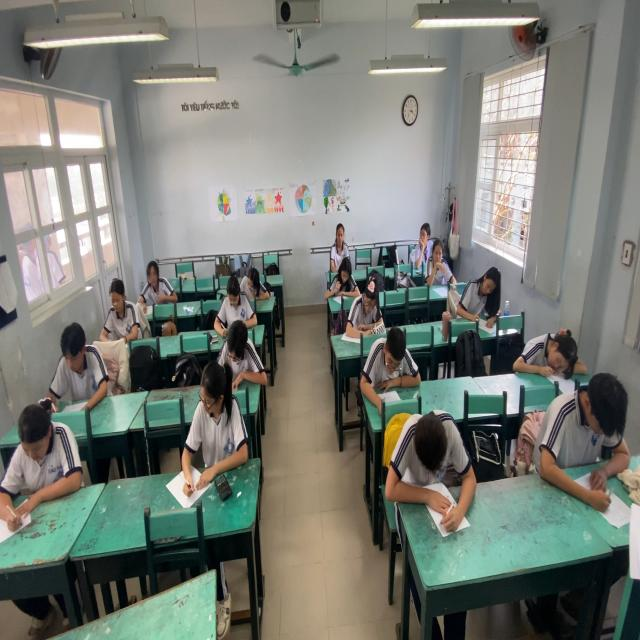cheating: (407, 218, 437, 273)
not_cheating: (378, 393, 483, 539), (549, 359, 623, 522), (177, 359, 244, 492), (11, 401, 90, 512), (517, 311, 584, 399), (359, 317, 418, 414), (56, 313, 112, 408), (456, 250, 506, 330), (94, 266, 144, 344), (215, 312, 257, 388), (347, 262, 381, 346), (419, 217, 455, 290), (137, 249, 177, 304), (218, 274, 255, 320), (327, 210, 353, 267), (240, 255, 266, 305), (328, 251, 351, 304)
